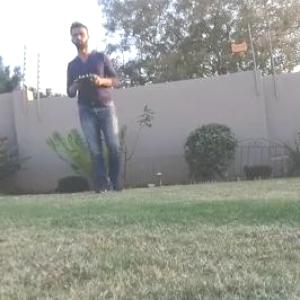follow: (62, 17, 136, 197)
